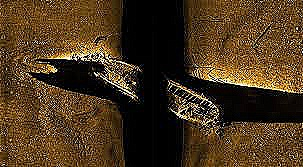ship: (71, 53, 221, 126)
